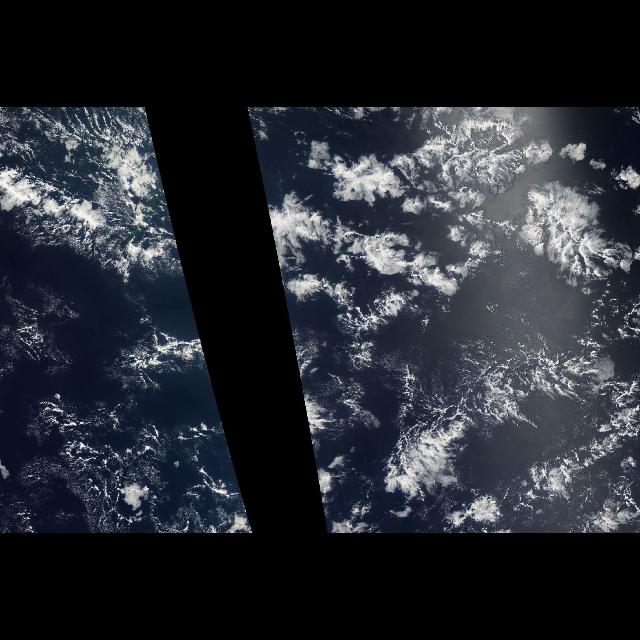Fish: (250, 116, 630, 316), (3, 116, 197, 316)
Flower: (257, 117, 631, 380)
